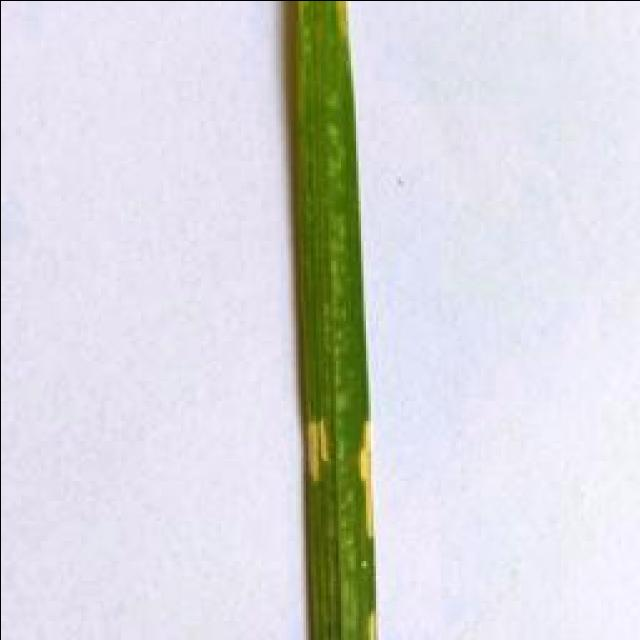Unhealthy: (356, 419, 373, 539), (305, 420, 330, 480), (368, 608, 378, 639)
